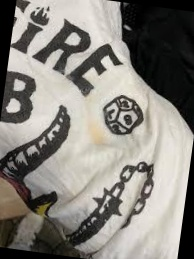mustard: (82, 120, 104, 150)
